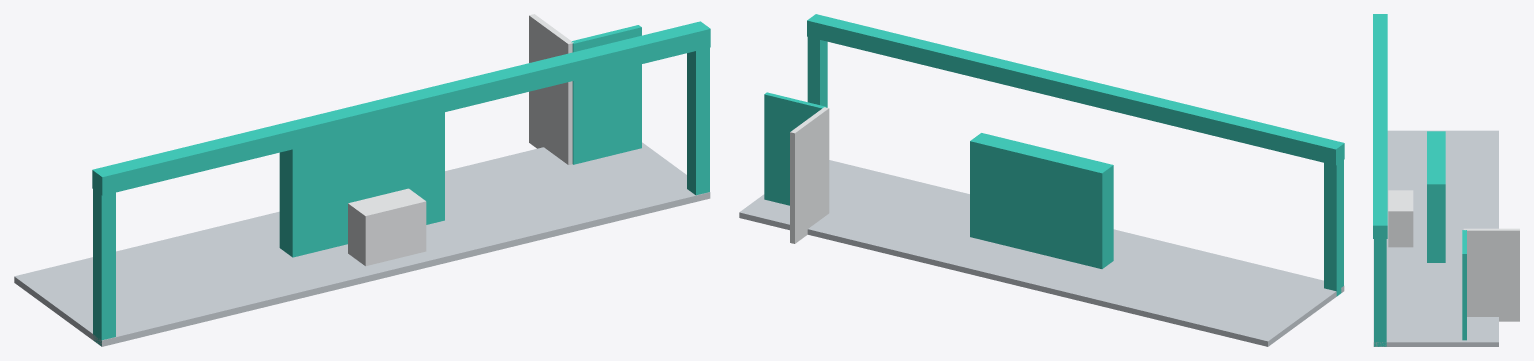
3 views of the same model, side by side, from view 1: azimuth 30°, elevation 25°; view 2: azimuth 150°, elevation 25°; view 3: azimuth 270°, elevation 25° (orthographic). The views are drawn at different scales.
Parts seen in each view (by area): view 1: Exhibition Booth Concept; view 2: Exhibition Booth Concept; view 3: Exhibition Booth Concept.
Boxes of the visible parts, x1,y1,x2,y2 form: Exhibition Booth Concept: (14,14,710,346); Exhibition Booth Concept: (739,14,1344,346); Exhibition Booth Concept: (1373,14,1519,346).
Bounding box in the file's own units: 12 × 3.2 × 3.52.
